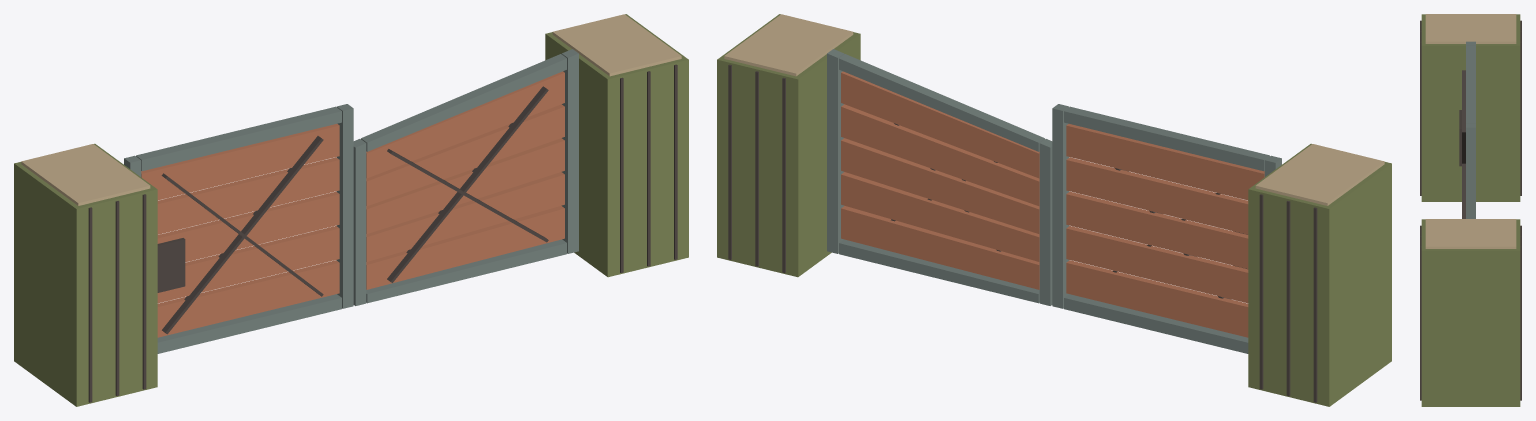
The model's file is SM_PuertaVia_v2_Tablones_e1_Danado_LOD0.fbx.
The picture shows the model from 3 angles, left to right: view 1: azimuth 30°, elevation 25°; view 2: azimuth 150°, elevation 25°; view 3: azimuth 270°, elevation 25°; orthographic projection. The views are drawn at different scales.
Parts seen in each view (by area): view 1: SM_bloques.puerta_via_v9_LOD0, Hoja_E, Hoja_O; view 2: SM_bloques.puerta_via_v9_LOD0, Hoja_E, Hoja_O; view 3: SM_bloques.puerta_via_v9_LOD0, Hoja_O, Hoja_E.
Boxes of the visible parts, <box> form: SM_bloques.puerta_via_v9_LOD0: <box>14,14,688,406</box>; Hoja_E: <box>353,49,578,305</box>; Hoja_O: <box>124,104,353,353</box>; SM_bloques.puerta_via_v9_LOD0: <box>717,14,1391,406</box>; Hoja_E: <box>827,49,1052,305</box>; Hoja_O: <box>1052,104,1281,353</box>; SM_bloques.puerta_via_v9_LOD0: <box>1420,14,1521,406</box>; Hoja_O: <box>1459,41,1475,181</box>; Hoja_E: <box>1462,160,1475,218</box>.
Bounding box in the file's own units: 6.8 × 2.16 × 1.24.
